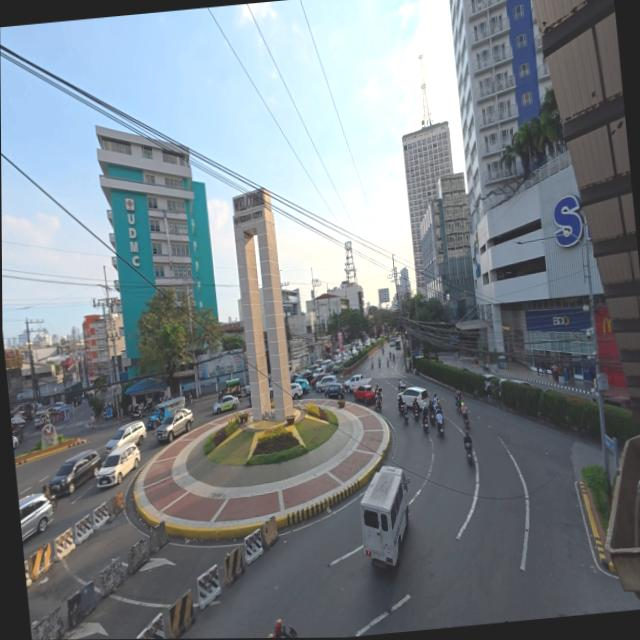car: (92, 443, 144, 489), (18, 492, 56, 542), (152, 406, 194, 444), (211, 393, 240, 413)
